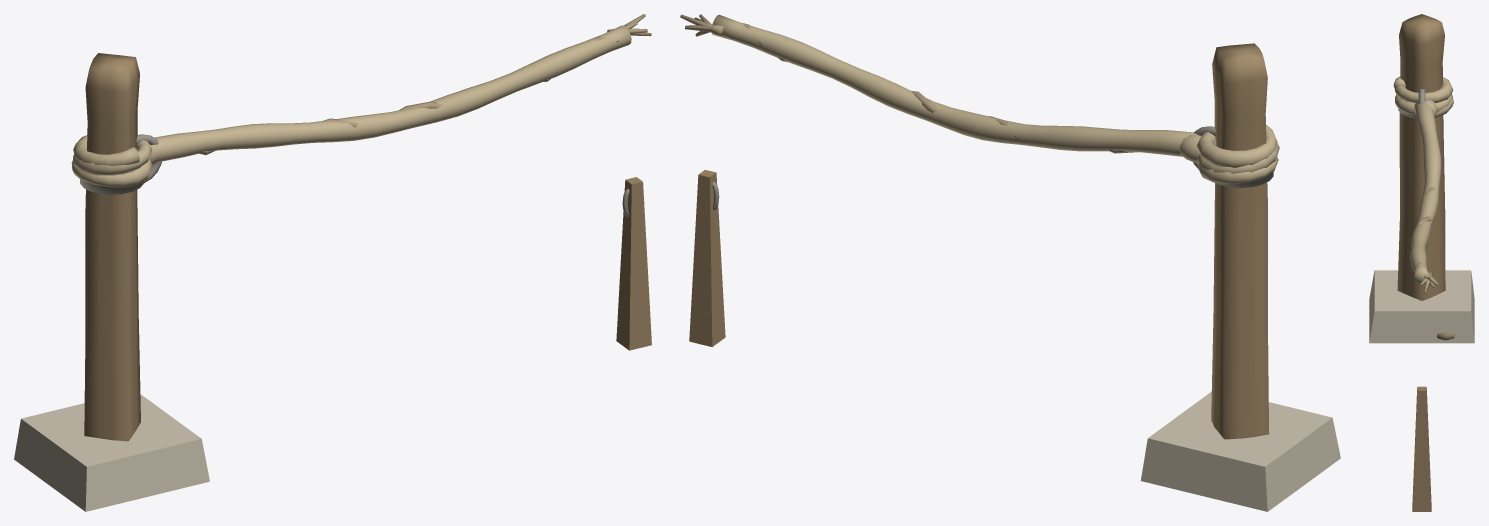
Rendered from yard_rope.glb.
3 views of the same model, side by side, from view 1: azimuth 30°, elevation 25°; view 2: azimuth 150°, elevation 25°; view 3: azimuth 270°, elevation 25° (orthographic). The views are drawn at different scales.
Visible parts, largest first — view 1: Yard_PostAssembly, Yard_Rope, Yard_FarHardware, Yard_HitchWrap; view 2: Yard_PostAssembly, Yard_Rope, Yard_FarHardware, Yard_HitchWrap; view 3: Yard_PostAssembly, Yard_Rope, Yard_FarHardware, Yard_HitchWrap.
Boxes of the visible parts, x1=… form: Yard_PostAssembly: x1=14, y1=53, x2=209, y2=511; Yard_Rope: x1=149, y1=14, x2=651, y2=164; Yard_FarHardware: x1=616, y1=177, x2=651, y2=350; Yard_HitchWrap: x1=71, y1=135, x2=152, y2=187; Yard_PostAssembly: x1=1140, y1=43, x2=1340, y2=511; Yard_Rope: x1=680, y1=14, x2=1201, y2=162; Yard_FarHardware: x1=689, y1=170, x2=725, y2=346; Yard_HitchWrap: x1=1196, y1=124, x2=1279, y2=184; Yard_PostAssembly: x1=1369, y1=14, x2=1474, y2=343; Yard_Rope: x1=1409, y1=99, x2=1441, y2=293; Yard_FarHardware: x1=1412, y1=386, x2=1431, y2=511; Yard_HitchWrap: x1=1393, y1=76, x2=1453, y2=117.
Size of the model in its own units: 2.14 by 1.39 by 0.44.
